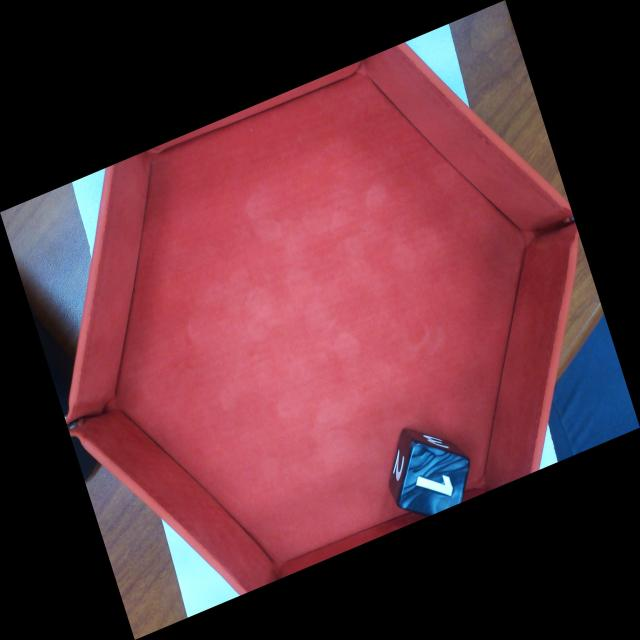dice: (403, 444, 471, 515)
